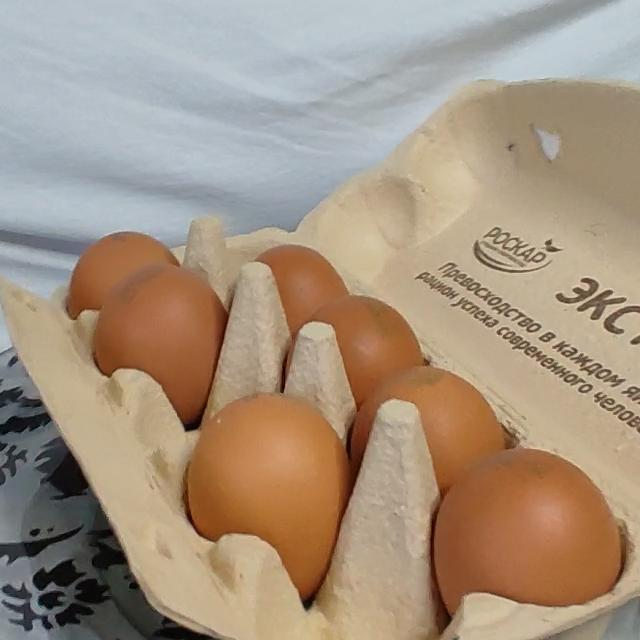egg: (60, 66, 640, 640)
